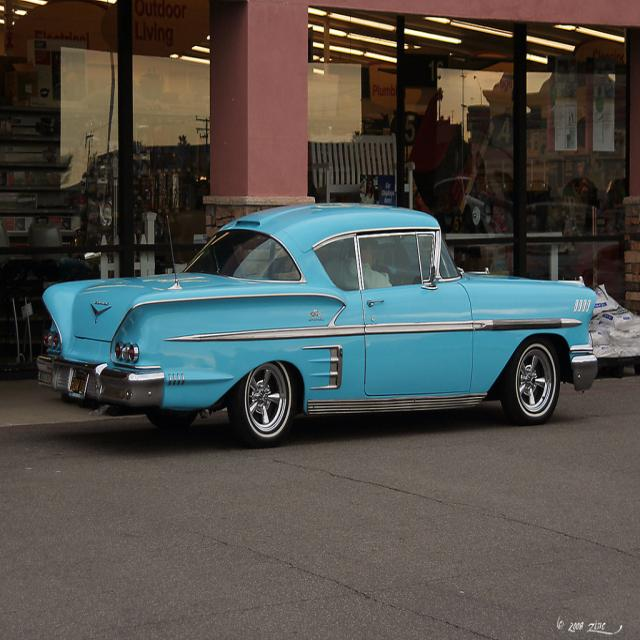car: (37, 201, 596, 449)
